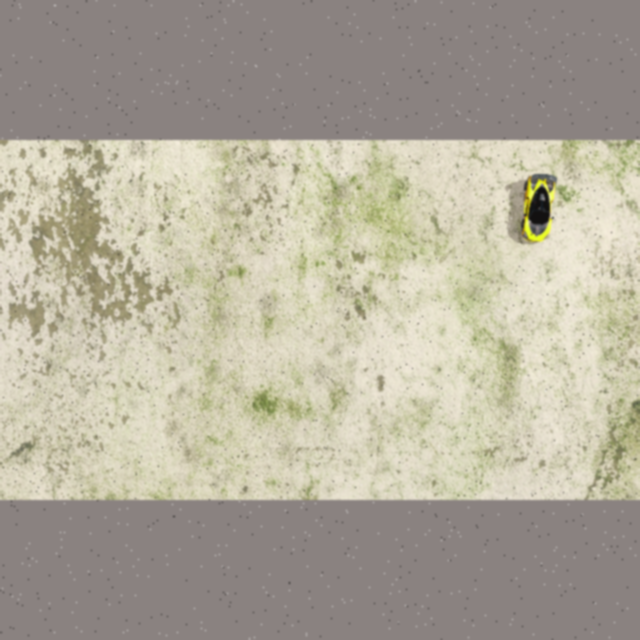car: (517, 172, 559, 244)
